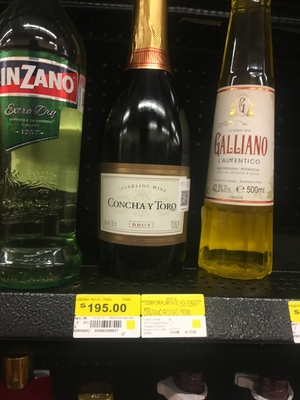brut: (96, 14, 196, 286)
